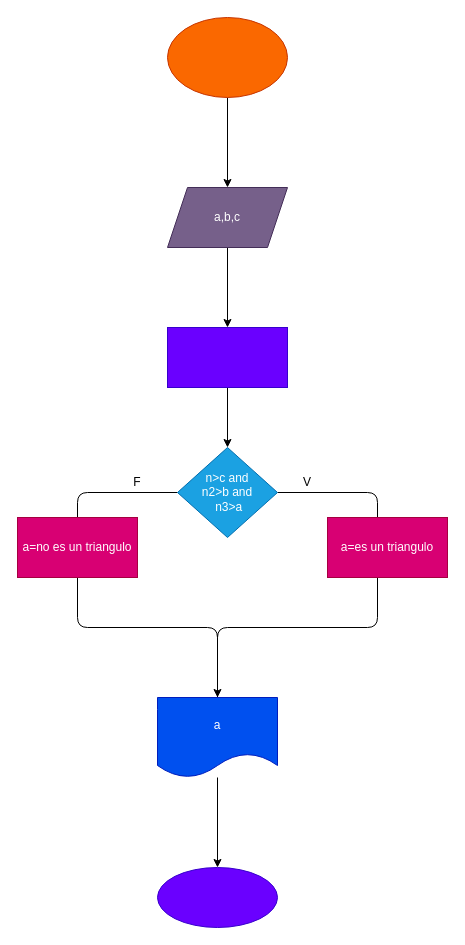
The diagram is 465 pixels wide and 945 high, and some of its shapes have lost their labels. The centre of each missing label's shape, as x and y in pixels:
"fin" goes at point (217, 897).
"incio" goes at point (227, 57).
"n=a+b n2=a+c n3=b+c" goes at point (227, 357).
